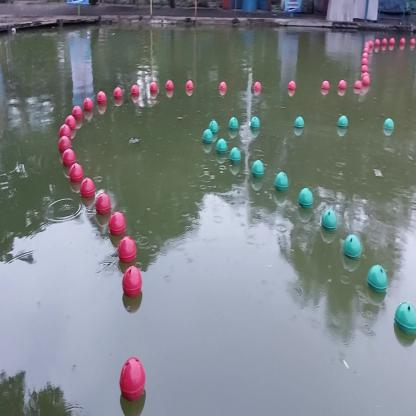green_buoy: (392, 300, 416, 346), (367, 253, 390, 296), (319, 203, 341, 232), (343, 230, 363, 261), (298, 184, 315, 213), (213, 134, 229, 158), (275, 169, 289, 194), (252, 158, 265, 184), (291, 111, 306, 133), (227, 145, 243, 165), (202, 121, 214, 147), (382, 114, 396, 135), (208, 118, 221, 138), (337, 113, 349, 132), (228, 115, 240, 131), (250, 114, 260, 132)
red_buoy: (119, 351, 148, 408), (121, 264, 144, 300), (106, 208, 131, 241), (115, 233, 139, 264), (94, 187, 114, 217), (78, 172, 96, 202), (66, 161, 86, 183), (82, 94, 96, 124), (58, 132, 72, 157), (62, 146, 79, 166), (72, 104, 86, 126), (58, 121, 72, 143), (95, 88, 109, 107), (184, 76, 198, 94), (65, 113, 78, 132), (164, 78, 176, 96), (129, 82, 143, 97), (287, 76, 298, 93), (147, 81, 160, 95), (112, 86, 123, 102), (321, 78, 332, 93), (338, 76, 348, 92), (218, 78, 227, 94), (354, 76, 363, 91), (363, 74, 372, 88), (254, 78, 262, 93)
